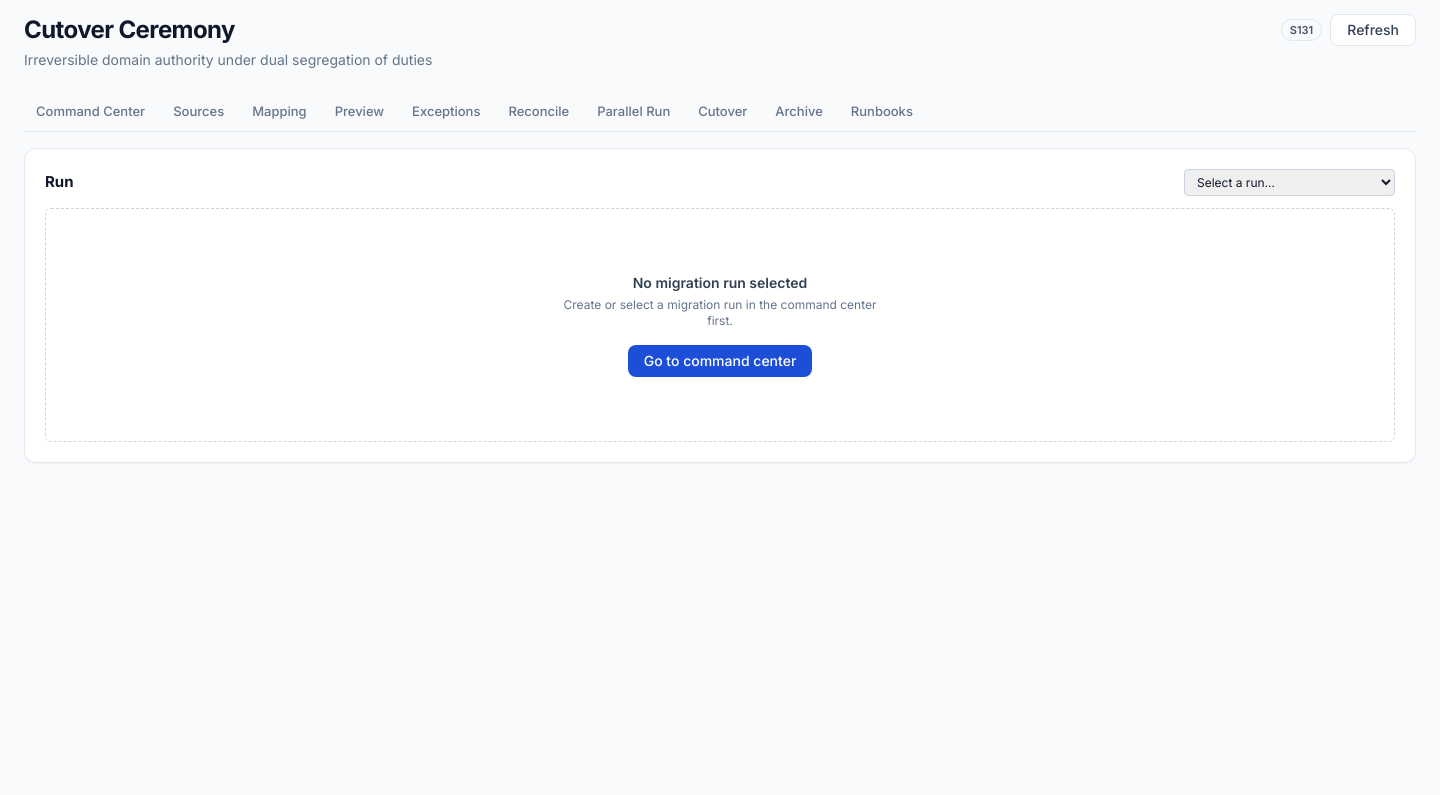
Scenario: MigrationCutover › displays the irreversible-effect statement and the preparer identity
Select "run-a · READY_FOR_CUTOVER" in the dropdown with test id "cutover-run-select" at [1290, 182], box [1184,168,1395,196]
(page scrolled)
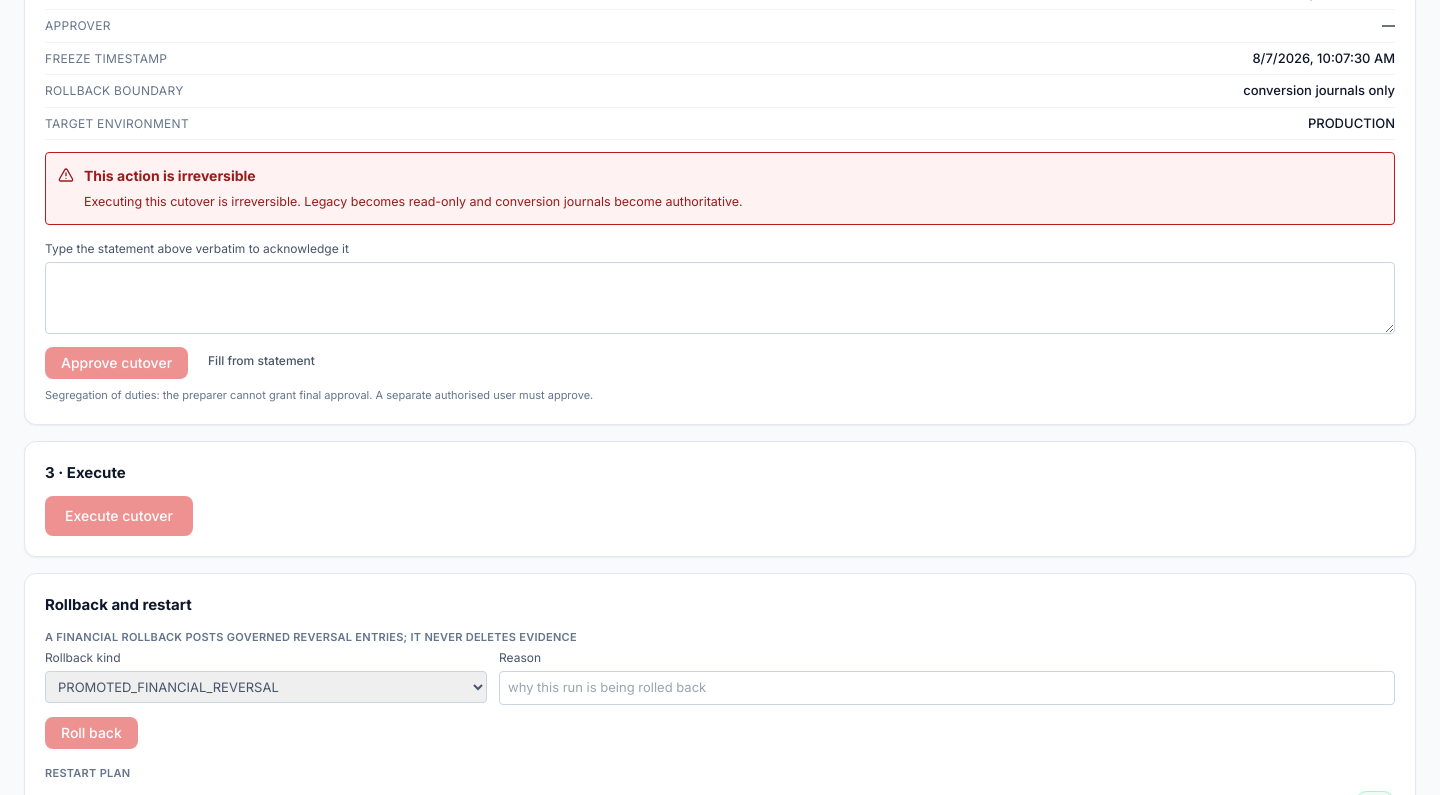
Result: the element with test id "irreversible-statement" is shown at [45,152,1395,225]
Result: the text with test id "irreversible-statement-text" shows "Executing this cutover is irreversible. Legacy becomes read-only and conversion journals become authoritative." at [84,194,743,209]
Result: the text with test id "ceremony-approver" reads "—" at [1382,17,1395,33]
